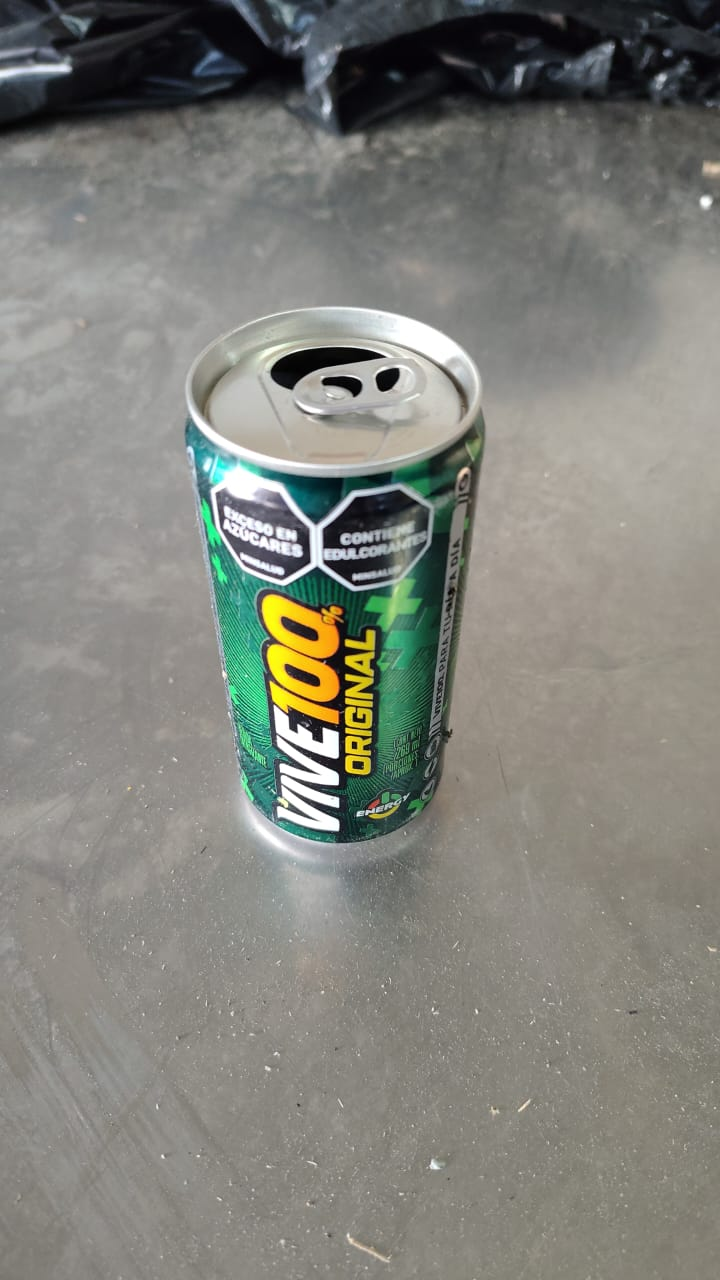Metal: (189, 305, 484, 848)
